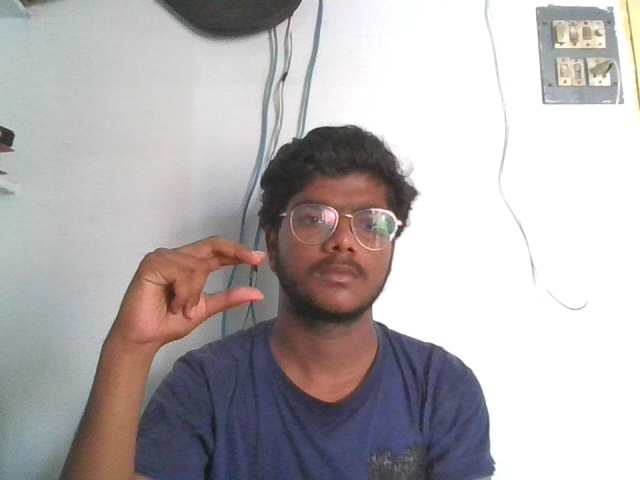No: (115, 231, 271, 338)
